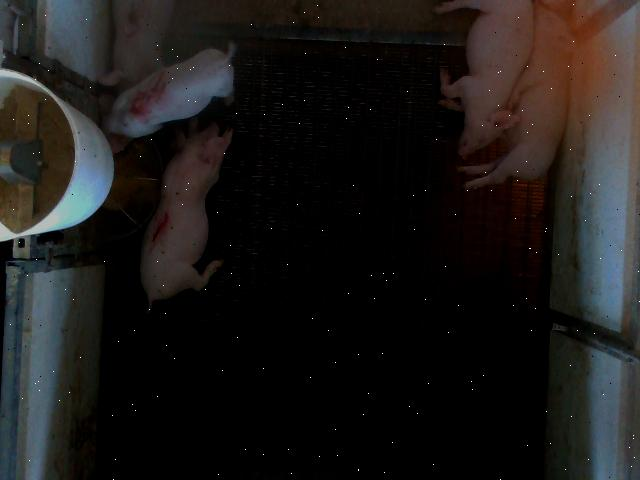pig-1: (140, 118, 232, 312)
pig-3: (100, 2, 175, 92)
pig-5: (100, 43, 234, 152)
